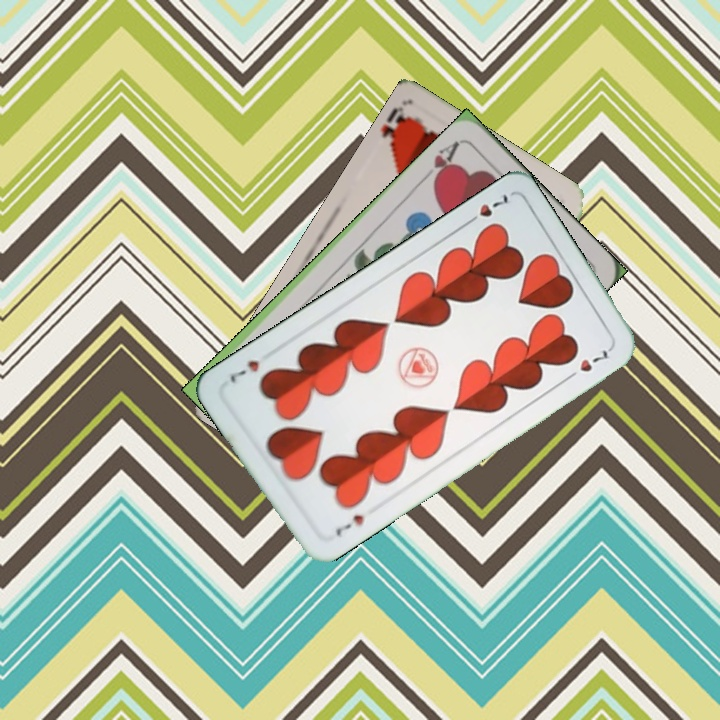H7: (461, 190, 511, 229), (331, 510, 367, 539)
HA: (418, 136, 463, 189)
HO: (377, 102, 415, 154)
